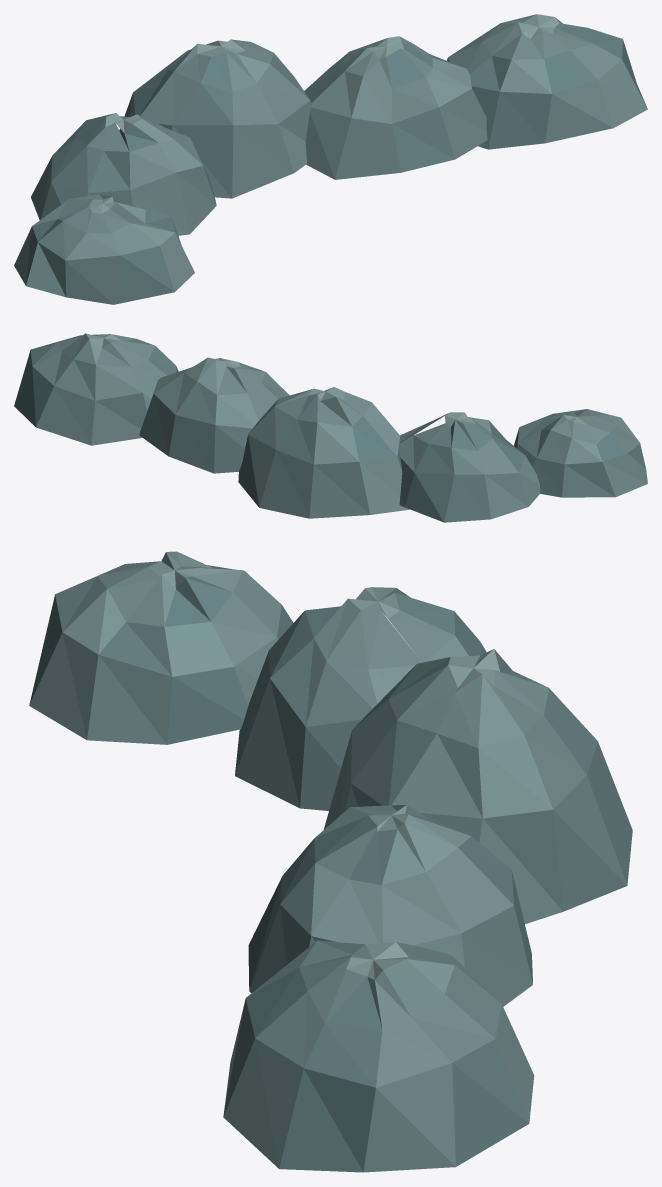
The model's file is distant-ridges.glb.
3 views of the same model, one above another, from view 1: azimuth 30°, elevation 25°; view 2: azimuth 150°, elevation 25°; view 3: azimuth 270°, elevation 25° (orthographic). The views are drawn at different scales.
Parts seen in each view (by area): view 1: distant-ridges; view 2: distant-ridges; view 3: distant-ridges.
Boxes of the visible parts, <box> form: distant-ridges: <box>14,14,647,304</box>; distant-ridges: <box>14,333,647,522</box>; distant-ridges: <box>29,551,632,1172</box>.
Bounding box in the file's own units: 501 × 82.77 × 228.
Materials: 1 (1 with a texture image).
